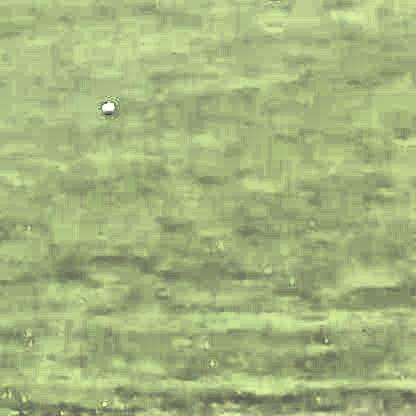golfball: (98, 98, 113, 114)
